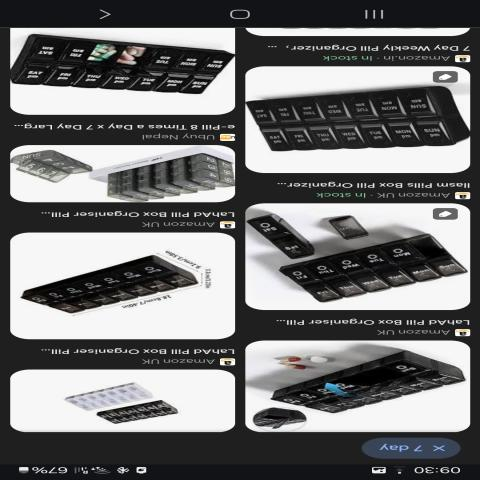PillBox: (248, 82, 466, 164), (258, 225, 464, 305), (269, 346, 462, 428), (10, 35, 231, 105), (19, 256, 220, 316), (74, 404, 195, 433)
